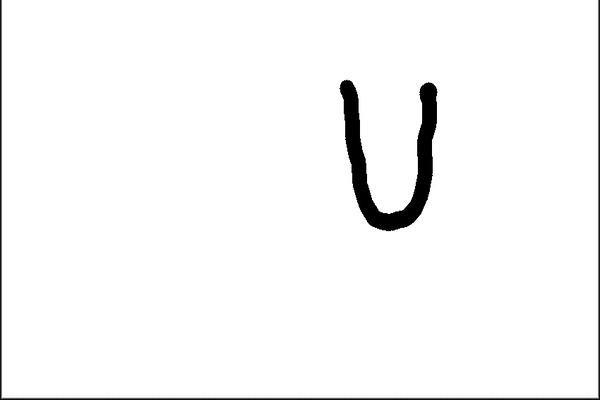U: (328, 68, 455, 240)
